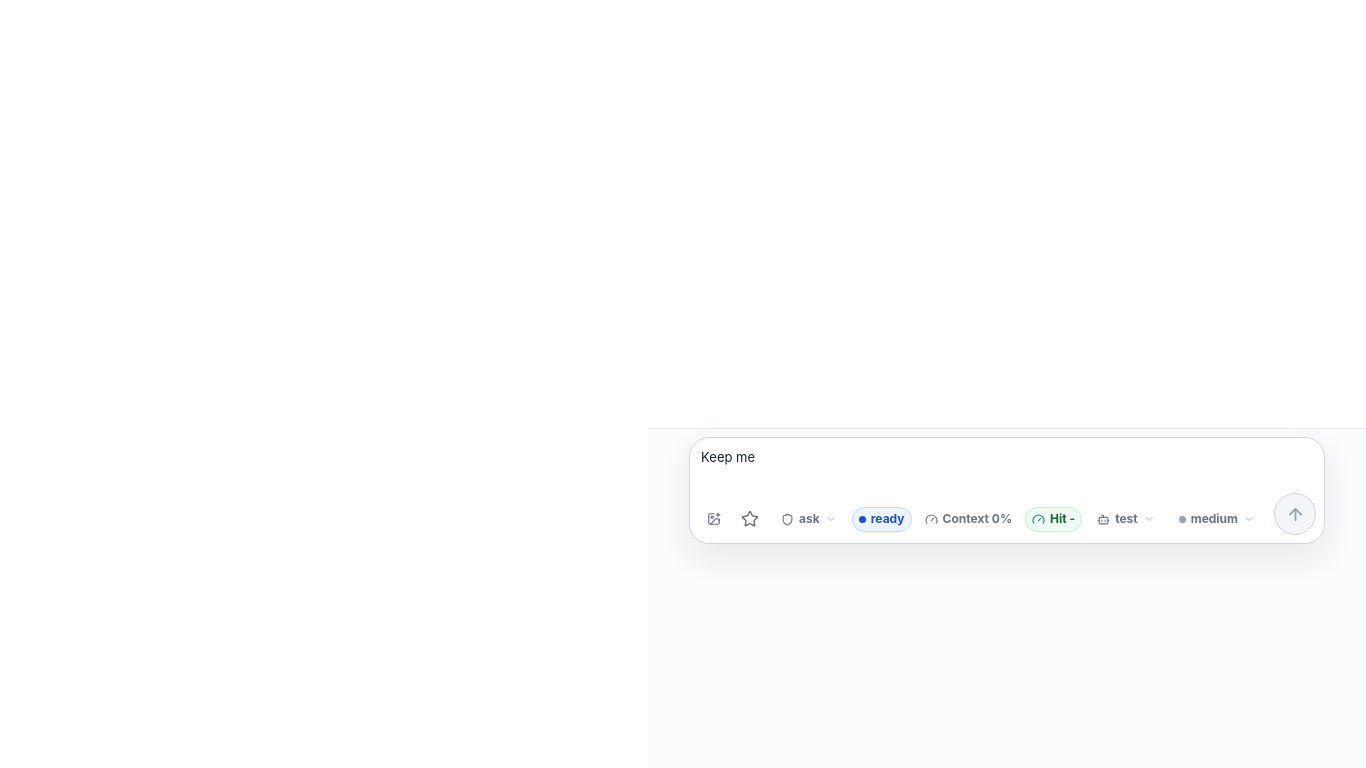
Test: legacy Composer common prompts › retains the draft when loading fails and supports retry
Click the button named "Common prompts": coordinates (750, 519) [734, 503, 766, 535]
Wait 200 ms
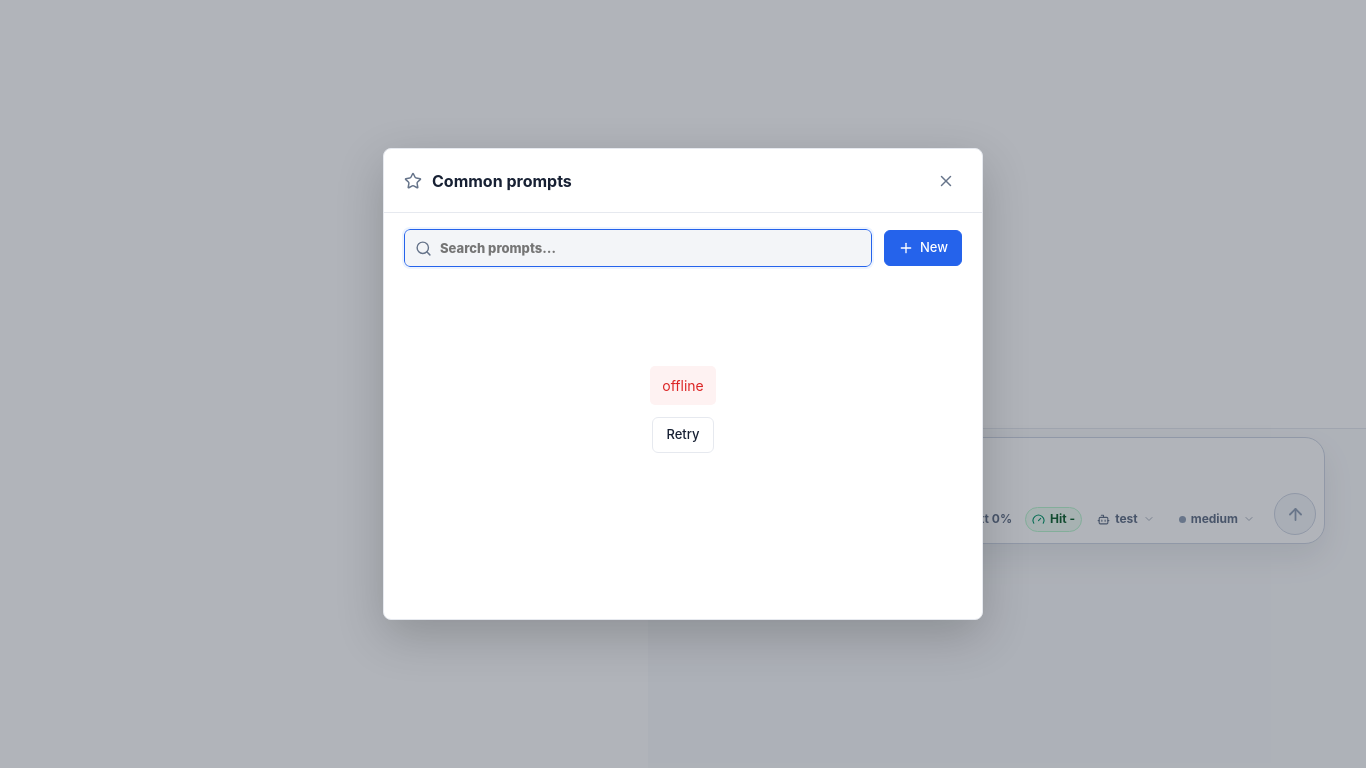
Check: the text box named "Message composer" holds "Keep me", box [698, 446, 1316, 487]
Check: the message "offline" is shown, box [650, 366, 716, 404]
Click the button "Retry": coordinates (683, 434) [652, 416, 714, 452]
Wait 200 ms
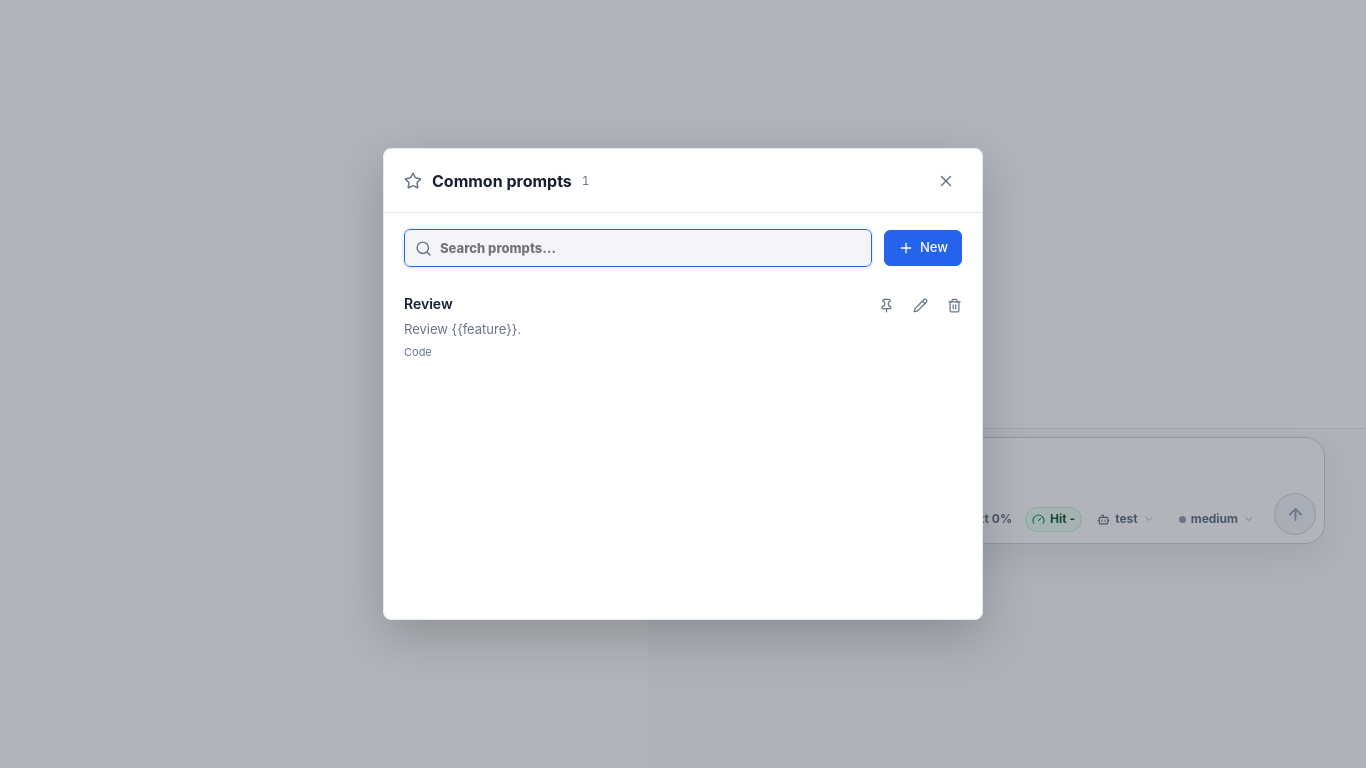
Check: the button with aria-label "Use Review" is shown, box [396, 283, 862, 371]
